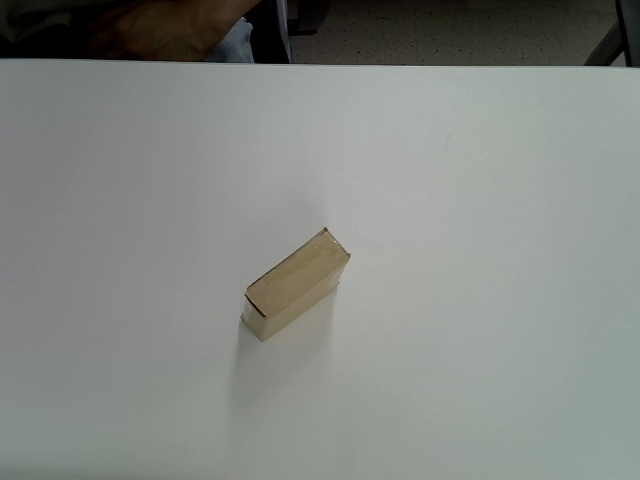normal: (239, 226, 352, 343)
